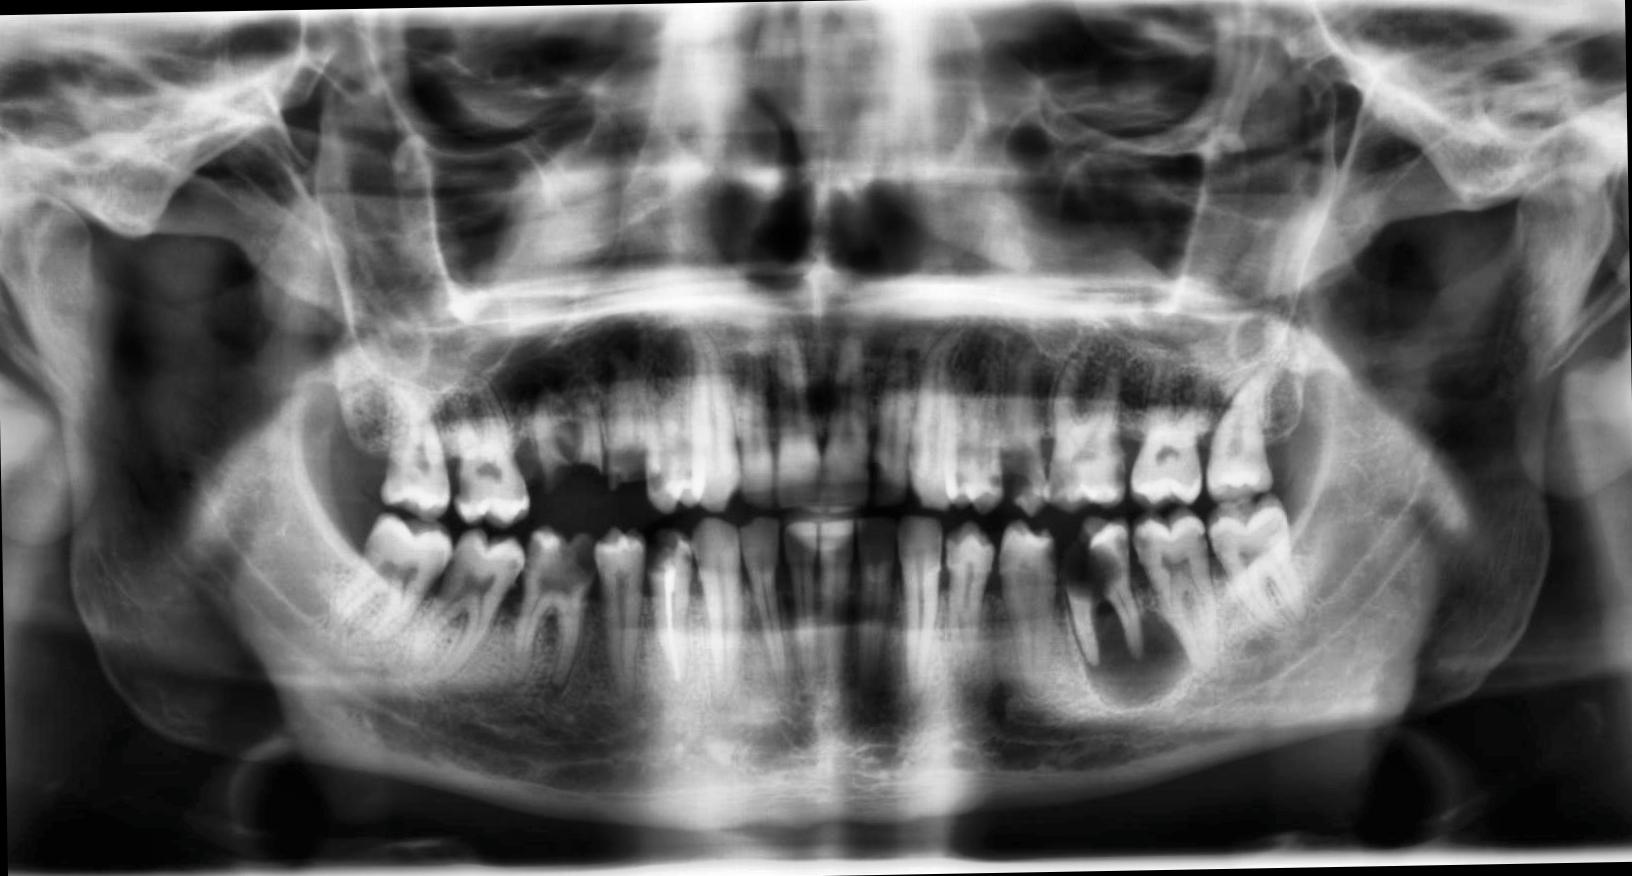radikuler: (1079, 608, 1194, 712)
